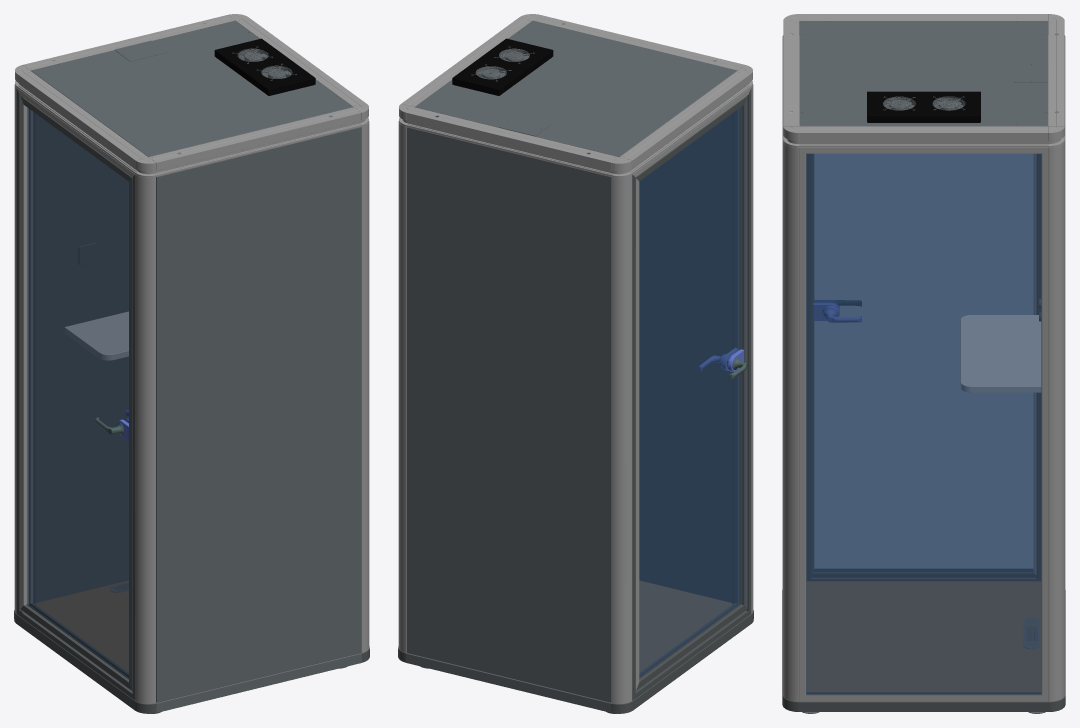
File: snapod-spd01-authoritative.glb
3 views of the same model, side by side, from view 1: azimuth 30°, elevation 25°; view 2: azimuth 150°, elevation 25°; view 3: azimuth 270°, elevation 25° (orthographic). The views are drawn at different scales.
Parts seen in each view (by area): view 1: supplied-service-wall-208, supplied-door-leaf-221, supplied-rear-wall-064, supplied-roof-138, supplied-column-covers-219, supplied-door-leaf-079, supplied-column-covers-218, supplied-roof-148, supplied-carpet-222, supplied-door-jamb-069, supplied-roof-146, supplied-roof-134 (+13 smaller); view 2: supplied-rear-wall-011, supplied-door-leaf-221, supplied-service-wall-066, supplied-roof-138, supplied-column-covers-060, supplied-door-leaf-077, supplied-column-covers-062, supplied-roof-147, supplied-carpet-222, supplied-door-jamb-068, supplied-roof-146, supplied-roof-134 (+12 smaller); view 3: supplied-fixed-glass-220, supplied-door-leaf-221, supplied-carpet-222, supplied-roof-138, supplied-column-covers-062, supplied-column-covers-218, supplied-rear-wall-003, supplied-roof-149, supplied-fixed-glass-104, supplied-fixed-glass-105, supplied-base-246, supplied-roof-134 (+15 smaller).
Boxes of the visible parts, left/top/right/bottom form: supplied-service-wall-208: left=156, top=127, right=361, bottom=702; supplied-door-leaf-221: left=27, top=108, right=128, bottom=677; supplied-rear-wall-064: left=36, top=114, right=128, bottom=602; supplied-roof-138: left=31, top=20, right=352, bottom=156; supplied-column-covers-219: left=135, top=175, right=155, bottom=703; supplied-door-leaf-079: left=20, top=97, right=32, bottom=608; supplied-column-covers-218: left=361, top=121, right=369, bottom=652; supplied-roof-148: left=149, top=107, right=361, bottom=176; supplied-carpet-222: left=36, top=580, right=128, bottom=672; supplied-door-jamb-069: left=16, top=88, right=35, bottom=613; supplied-roof-146: left=17, top=70, right=148, bottom=173; supplied-roof-134: left=214, top=38, right=315, bottom=95; supplied-rear-wall-011: left=406, top=127, right=611, bottom=702; supplied-door-leaf-221: left=639, top=108, right=740, bottom=677; supplied-service-wall-066: left=639, top=114, right=731, bottom=602; supplied-roof-138: left=415, top=20, right=736, bottom=156; supplied-column-covers-060: left=612, top=175, right=632, bottom=703; supplied-door-leaf-077: left=735, top=97, right=747, bottom=608; supplied-column-covers-062: left=398, top=121, right=406, bottom=652; supplied-roof-147: left=406, top=107, right=618, bottom=176; supplied-carpet-222: left=639, top=581, right=731, bottom=671; supplied-door-jamb-068: left=732, top=88, right=751, bottom=613; supplied-roof-146: left=619, top=70, right=750, bottom=173; supplied-roof-134: left=452, top=38, right=553, bottom=95; supplied-fixed-glass-220: left=806, top=153, right=1041, bottom=695; supplied-door-leaf-221: left=814, top=154, right=1032, bottom=570; supplied-carpet-222: left=807, top=581, right=1040, bottom=693; supplied-roof-138: left=799, top=21, right=1048, bottom=126; supplied-column-covers-062: left=1048, top=141, right=1064, bottom=701; supplied-column-covers-218: left=783, top=141, right=799, bottom=701; supplied-rear-wall-003: left=960, top=315, right=1040, bottom=392; supplied-roof-149: left=799, top=126, right=1048, bottom=147; supplied-fixed-glass-104: left=1041, top=148, right=1048, bottom=701; supplied-fixed-glass-105: left=799, top=148, right=806, bottom=701; supplied-base-246: left=782, top=695, right=1065, bottom=711; supplied-roof-134: left=867, top=91, right=980, bottom=122.
Bounding box in the file's own units: 1.05 × 2.32 × 1.
